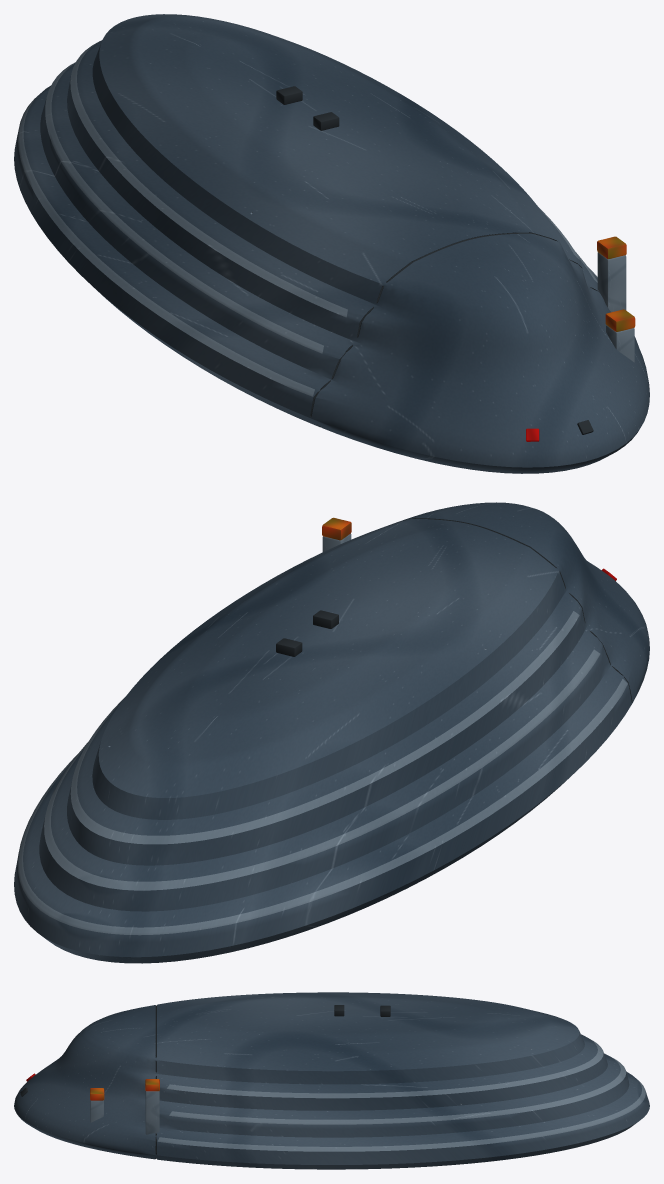
The picture shows the model from 3 angles, top to bottom: view 1: azimuth 30°, elevation 25°; view 2: azimuth 150°, elevation 25°; view 3: azimuth 270°, elevation 25°; orthographic projection. The views are drawn at different scales.
Visible parts, largest first — view 1: SoftCore continuous stepped metal carapace, SoftCore pale front fitting 1; view 2: SoftCore continuous stepped metal carapace; view 3: SoftCore continuous stepped metal carapace, SoftCore pale front fitting 1, SoftCore pale front fitting 0.
Boxes of the visible parts, x1,y1,x2,y2 form: SoftCore continuous stepped metal carapace: (14,14,649,473); SoftCore pale front fitting 1: (597,252,626,312); SoftCore continuous stepped metal carapace: (14,502,649,963); SoftCore continuous stepped metal carapace: (14,992,649,1169); SoftCore pale front fitting 1: (145,1091,159,1134); SoftCore pale front fitting 0: (90,1100,103,1122).
Size of the model in its own units: 1.52 by 0.631 by 3.44.
Materials: 5 (4 with a texture image).
